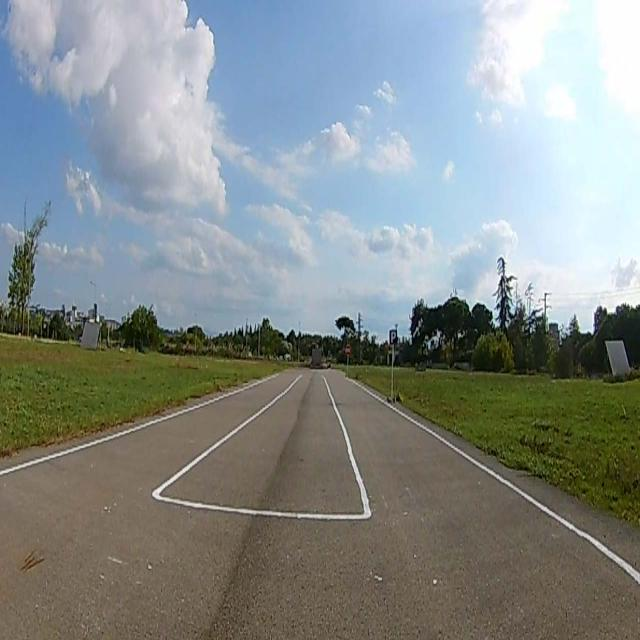park: (390, 331, 397, 344)
